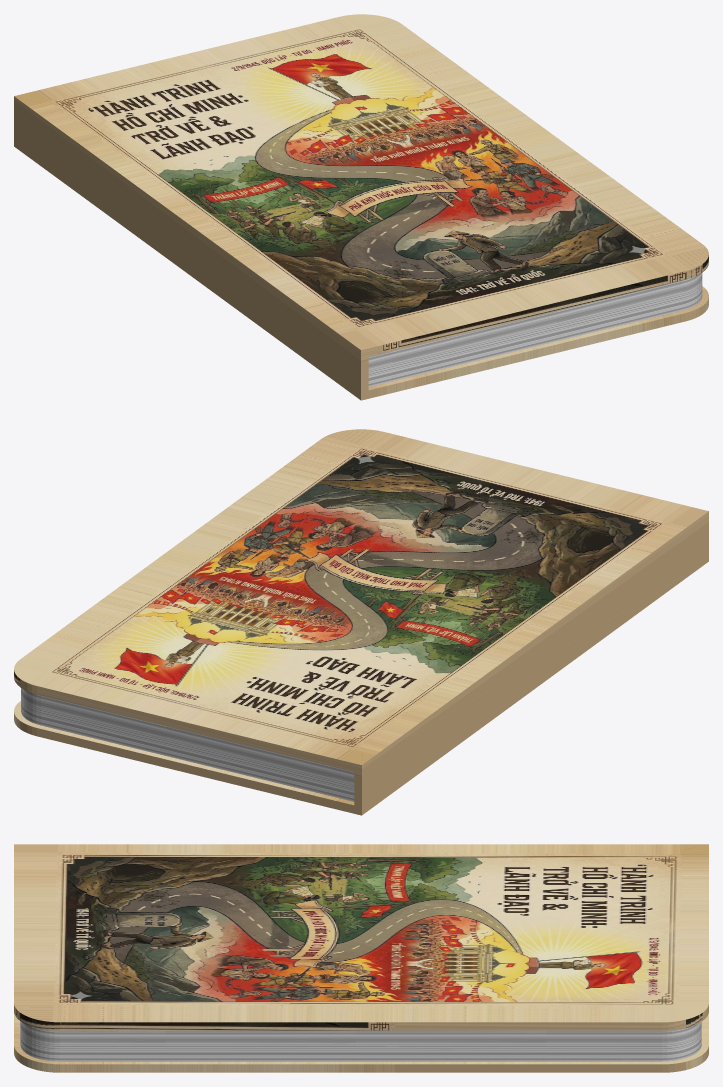
Rendered from Notebookhcm02.glb.
3 views of the same model, one above another, from view 1: azimuth 30°, elevation 25°; view 2: azimuth 150°, elevation 25°; view 3: azimuth 270°, elevation 25° (orthographic).
Visible parts, largest first — view 1: Group20, Group1; view 2: Group20, Group1; view 3: Group20, Group1.
Part boxes in pixels (x1,y1,x2,y2): Group20: [14, 14, 708, 400]; Group1: [368, 273, 702, 386]; Group20: [14, 429, 708, 815]; Group1: [21, 688, 354, 801]; Group20: [14, 844, 708, 1072]; Group1: [20, 1021, 701, 1061].
Bounding box in the file's own units: 121 × 16.19 × 199.
7 materials, 2 textured.
